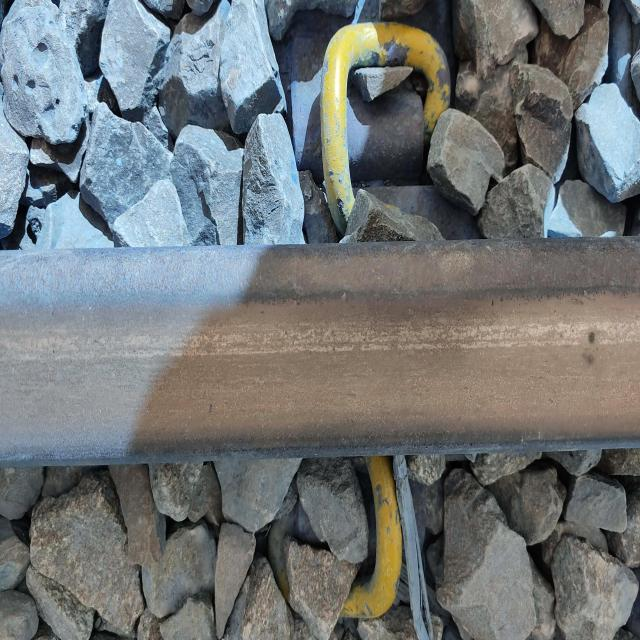Good Fasteners: (285, 23, 451, 237), (341, 456, 402, 619)
